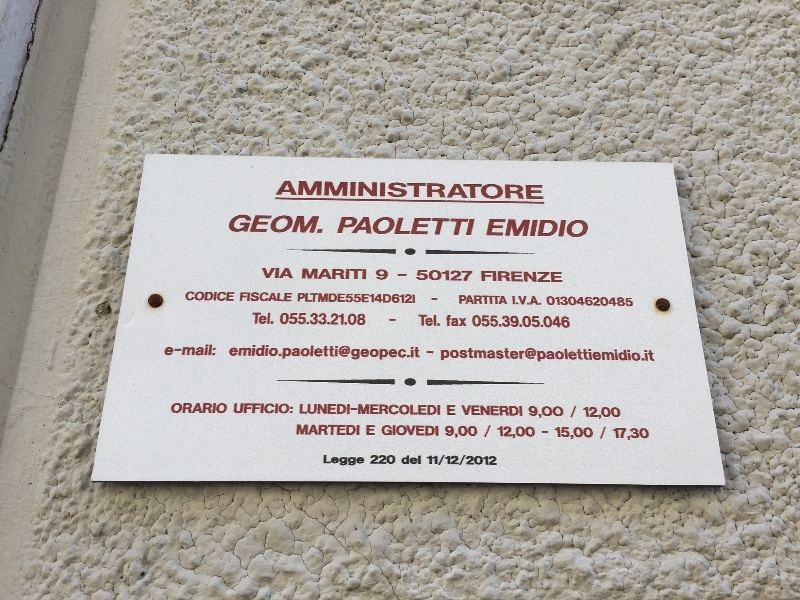text: (529, 181, 545, 201), (289, 181, 304, 201), (305, 181, 320, 201), (321, 181, 336, 201), (337, 181, 352, 201), (353, 181, 368, 201), (369, 181, 384, 201), (385, 181, 400, 201), (401, 181, 416, 201), (417, 181, 432, 201), (433, 181, 448, 201), (449, 181, 464, 201), (465, 181, 480, 201), (481, 181, 496, 201), (497, 181, 512, 201), (513, 181, 528, 201), (241, 215, 256, 234), (257, 215, 272, 234), (273, 215, 288, 234), (289, 215, 304, 234), (305, 215, 320, 234), (497, 219, 512, 238), (513, 219, 528, 238), (529, 219, 544, 238), (545, 219, 560, 238), (561, 219, 576, 238), (353, 217, 368, 235), (369, 217, 384, 235), (385, 217, 400, 235), (401, 217, 416, 235), (417, 217, 432, 235), (433, 217, 448, 235), (449, 217, 464, 235), (577, 219, 590, 238), (481, 315, 496, 329), (497, 315, 512, 329), (513, 315, 528, 329), (529, 315, 544, 329), (545, 315, 560, 329), (449, 347, 464, 361), (465, 347, 480, 361), (481, 347, 496, 361), (497, 347, 512, 361), (465, 217, 476, 235), (289, 313, 304, 326), (305, 313, 320, 326), (321, 313, 336, 326), (337, 313, 352, 326), (289, 346, 304, 359), (305, 346, 320, 359), (321, 346, 336, 359), (545, 349, 560, 362), (561, 349, 576, 362), (577, 349, 592, 362), (593, 349, 608, 362), (609, 349, 624, 362), (625, 349, 640, 362), (449, 425, 464, 438), (497, 426, 512, 439), (513, 426, 528, 439), (561, 427, 576, 440), (577, 427, 592, 440), (625, 428, 640, 441), (342, 217, 352, 235), (305, 268, 320, 280), (321, 268, 336, 280), (337, 268, 352, 280), (481, 271, 496, 283), (497, 271, 512, 283), (513, 271, 528, 283), (529, 271, 544, 283), (545, 271, 560, 283), (177, 344, 192, 356), (193, 344, 208, 356), (241, 345, 256, 357), (257, 345, 272, 357), (353, 349, 368, 361), (369, 349, 384, 361), (385, 349, 400, 361), (529, 406, 544, 418), (545, 406, 560, 418), (593, 407, 608, 419), (449, 315, 464, 327), (353, 313, 366, 326), (353, 268, 367, 280), (513, 347, 525, 361), (418, 314, 432, 326), (273, 268, 288, 279), (417, 270, 432, 281), (433, 270, 448, 281), (449, 270, 464, 281), (193, 291, 208, 302), (209, 291, 224, 302), (257, 313, 272, 324), (177, 403, 192, 414), (193, 403, 208, 414), (209, 403, 224, 414), (241, 403, 256, 414), (257, 403, 272, 414), (273, 403, 288, 414), (305, 424, 320, 435), (321, 424, 336, 435), (337, 424, 352, 435), (385, 425, 400, 436), (401, 425, 416, 436), (417, 425, 432, 436), (465, 405, 480, 416), (481, 405, 496, 416), (497, 405, 512, 416), (305, 404, 320, 415), (321, 404, 336, 415), (337, 404, 352, 415), (353, 404, 368, 415), (369, 404, 384, 415), (385, 404, 400, 415), (401, 404, 416, 415), (417, 404, 432, 415), (337, 455, 352, 466), (465, 425, 477, 438), (561, 297, 576, 307), (577, 297, 592, 307), (593, 297, 608, 307), (609, 297, 624, 307), (305, 293, 320, 303), (321, 293, 336, 303), (337, 293, 352, 303), (353, 293, 368, 303), (369, 293, 384, 303), (385, 293, 400, 303), (340, 345, 352, 357), (609, 407, 621, 419), (613, 428, 624, 441), (561, 315, 571, 329), (401, 293, 415, 303), (241, 293, 256, 302), (257, 293, 272, 302), (273, 293, 288, 302), (465, 295, 480, 304), (481, 295, 496, 304), (513, 296, 528, 305), (481, 456, 496, 465), (233, 215, 240, 234), (324, 455, 336, 466), (353, 455, 365, 466), (547, 297, 560, 307), (371, 455, 384, 465), (402, 456, 416, 465), (645, 350, 656, 361), (166, 344, 176, 356), (230, 345, 240, 357), (273, 345, 283, 357), (486, 425, 496, 437), (641, 428, 650, 441), (467, 456, 480, 465), (490, 219, 496, 238), (262, 268, 272, 279), (225, 291, 235, 302), (513, 405, 523, 416), (385, 455, 396, 465), (529, 296, 541, 305), (401, 349, 410, 361), (583, 407, 592, 419), (449, 455, 459, 465), (497, 295, 508, 304), (473, 315, 480, 329), (441, 347, 448, 361), (376, 269, 384, 281), (209, 344, 217, 356), (529, 348, 537, 360), (600, 427, 608, 439), (281, 313, 288, 326), (537, 349, 544, 362), (625, 297, 634, 307), (465, 270, 473, 281), (433, 314, 440, 326), (284, 181, 288, 201), (440, 455, 448, 465), (529, 426, 535, 439), (297, 424, 304, 435), (353, 424, 360, 435), (433, 404, 440, 415), (321, 215, 325, 234), (449, 405, 456, 415), (186, 291, 192, 302), (433, 425, 439, 436), (555, 427, 560, 440), (298, 293, 304, 303), (369, 425, 375, 435), (289, 268, 294, 279), (411, 347, 416, 358), (235, 403, 240, 414), (289, 403, 294, 414), (459, 455, 464, 466), (284, 346, 288, 359), (641, 349, 645, 362), (427, 455, 432, 465), (433, 455, 438, 465), (459, 295, 464, 304), (417, 456, 422, 465), (172, 403, 176, 414), (445, 425, 448, 438), (385, 269, 388, 281), (525, 348, 528, 360), (561, 406, 564, 418), (389, 318, 400, 321), (253, 313, 256, 324), (417, 347, 420, 358), (225, 403, 228, 414), (461, 405, 464, 416), (301, 404, 304, 415), (573, 406, 576, 417), (445, 455, 448, 465), (289, 293, 292, 302), (561, 271, 563, 283), (446, 315, 448, 327), (465, 315, 467, 327), (382, 425, 384, 436), (465, 455, 467, 466), (433, 298, 438, 301), (427, 351, 432, 354), (337, 346, 338, 359), (593, 427, 594, 440), (303, 268, 304, 280), (401, 274, 407, 276), (351, 349, 352, 361), (273, 313, 274, 324), (367, 425, 368, 435), (447, 405, 448, 415), (497, 456, 498, 465), (545, 431, 549, 433), (398, 274, 400, 276), (542, 431, 544, 433), (433, 351, 434, 354)
